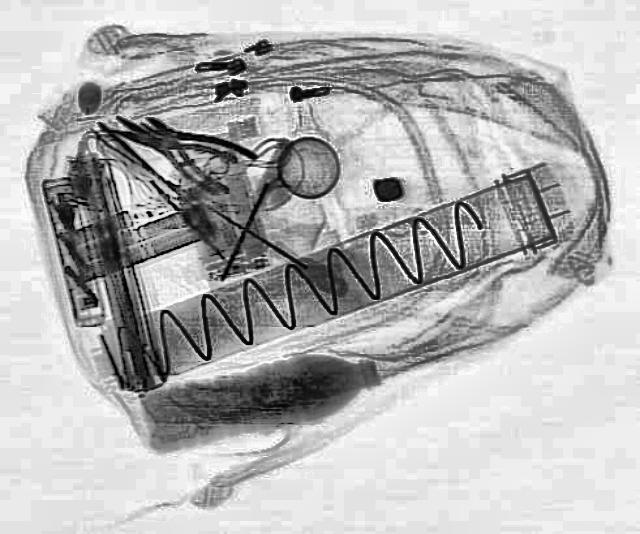Pliers: (118, 104, 260, 199), (100, 111, 244, 195)
